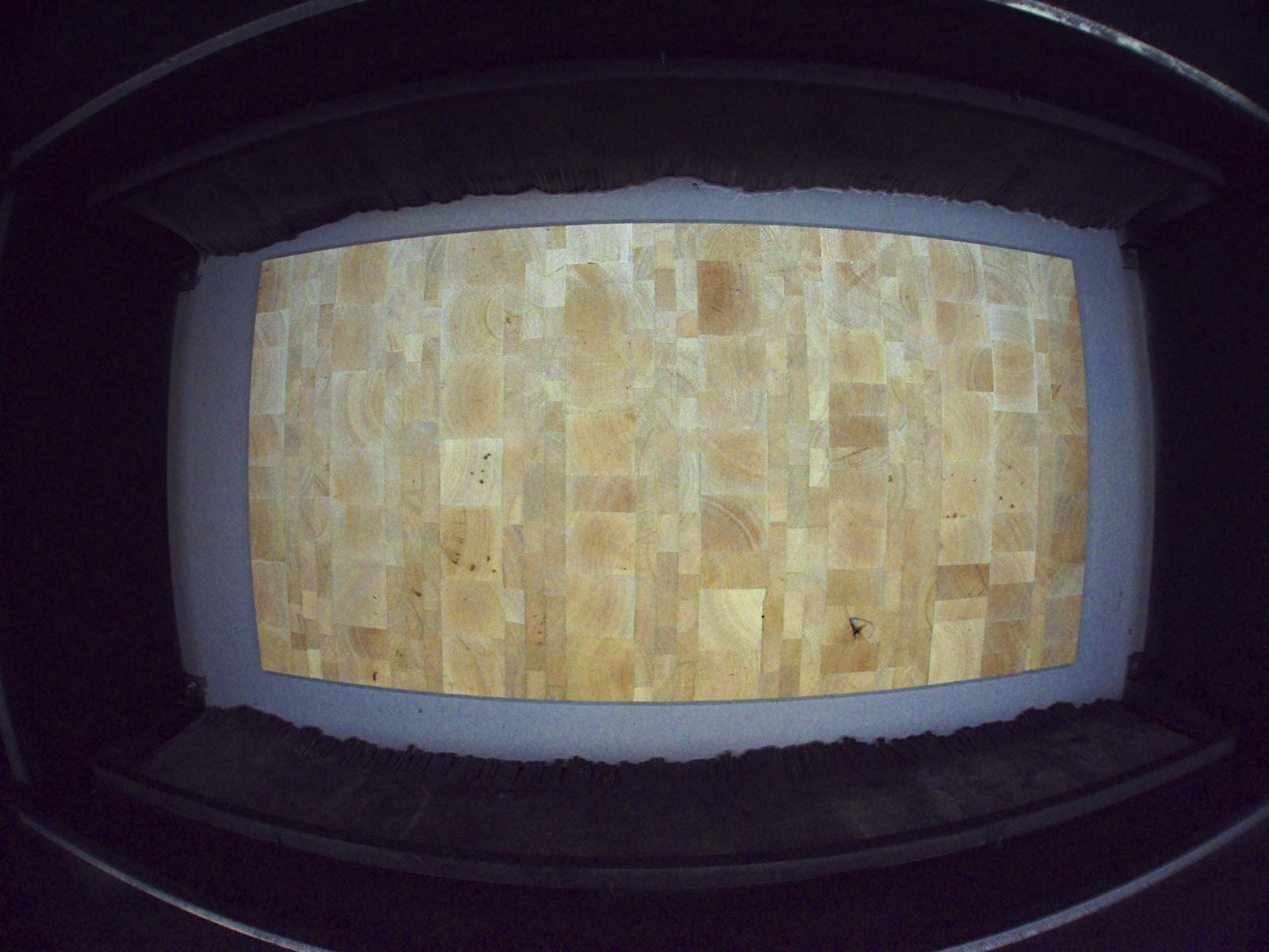sheck_ecuatoriano: (844, 606, 879, 647)
